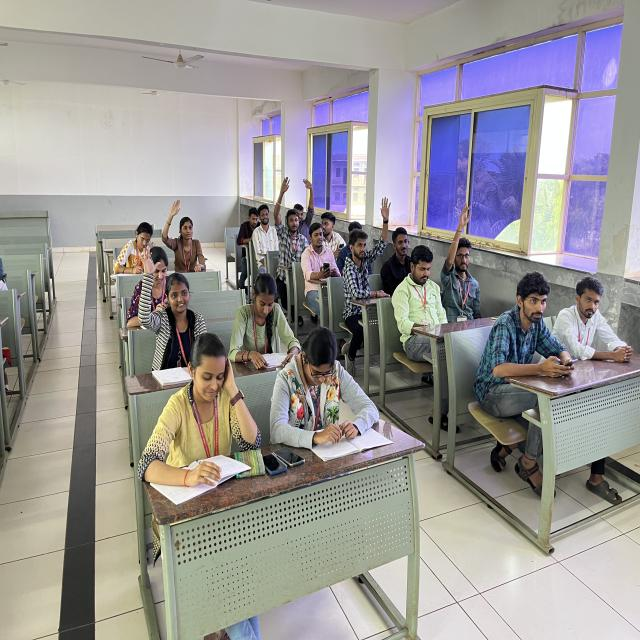Hand Rising: (126, 245, 212, 350), (437, 200, 492, 320), (159, 185, 217, 272), (272, 170, 306, 257)
Reading: (267, 321, 395, 456), (231, 260, 304, 368)
Using Phone: (478, 270, 580, 416), (335, 194, 395, 302), (303, 220, 341, 289)
